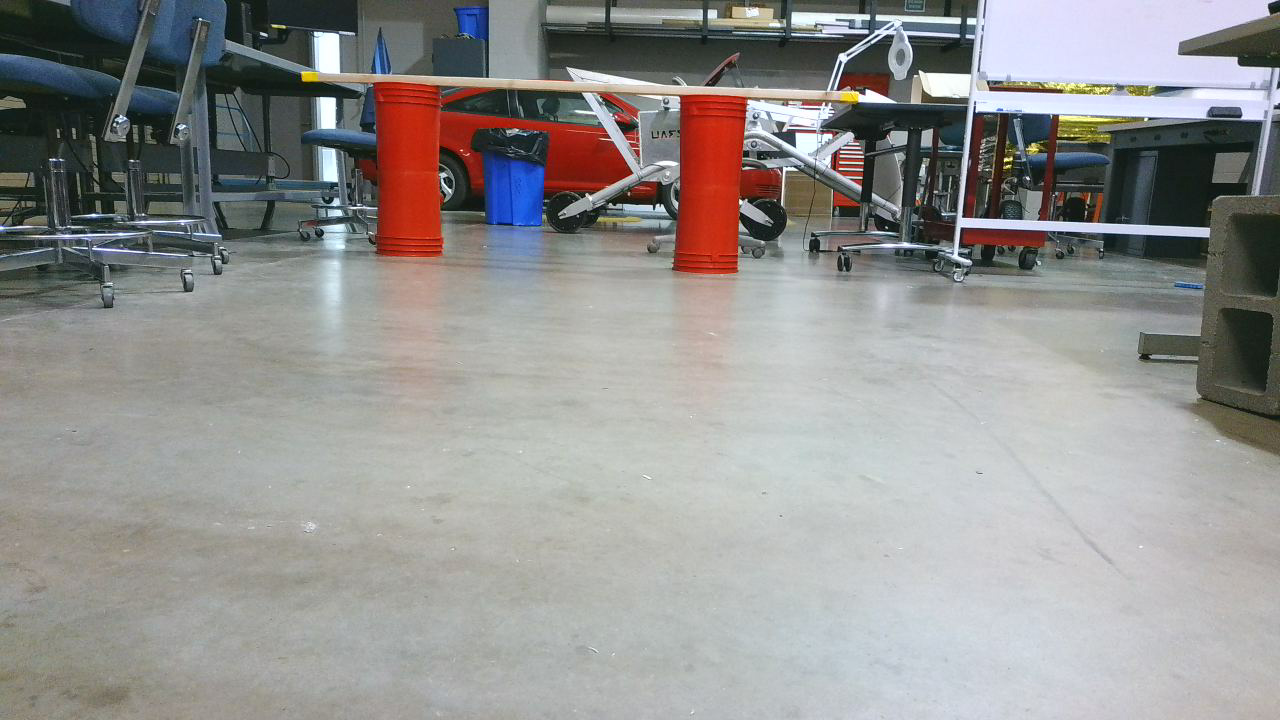red_bucket_arch: (379, 84, 752, 280)
